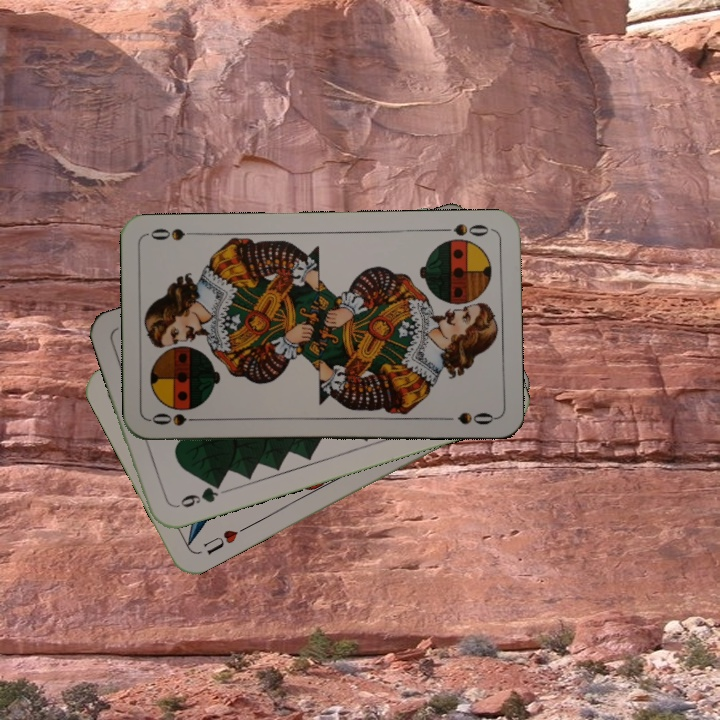G9: (170, 478, 225, 511)
HU: (199, 522, 250, 558)
SO: (148, 409, 207, 428), (435, 220, 494, 239)
